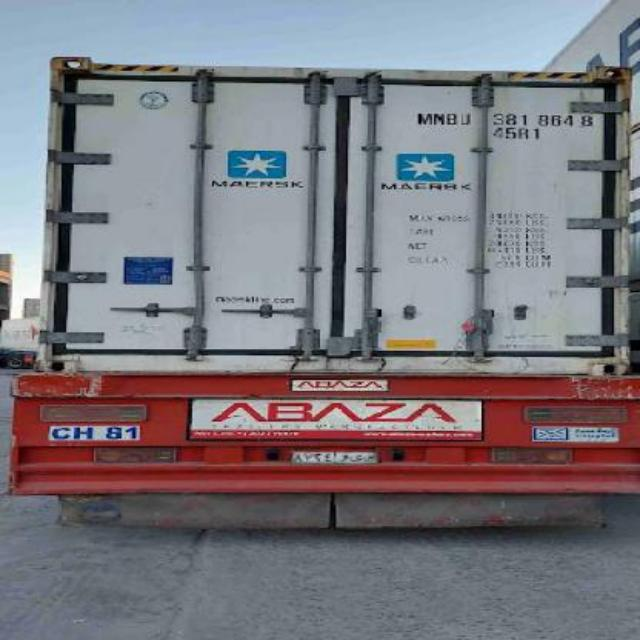1: (520, 110, 530, 126)
3: (490, 112, 506, 126)
4: (566, 110, 576, 134)
6: (550, 113, 562, 131)
8: (534, 110, 550, 130), (502, 112, 520, 125), (580, 114, 594, 128)
B: (442, 109, 456, 129)
M: (416, 108, 432, 130)
N: (432, 103, 446, 135)
U: (460, 112, 472, 126)
